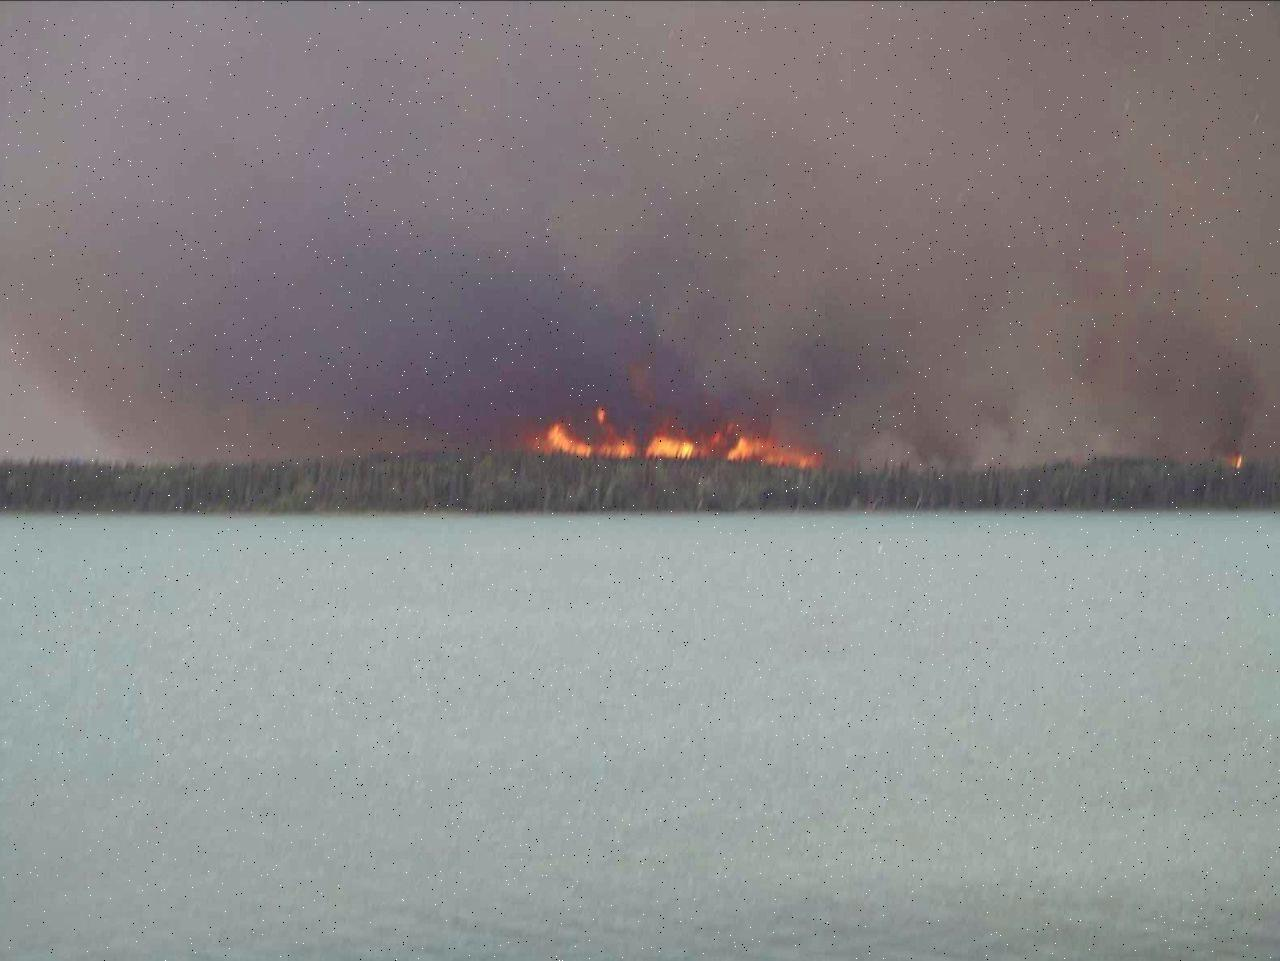fire: (513, 402, 829, 476)
